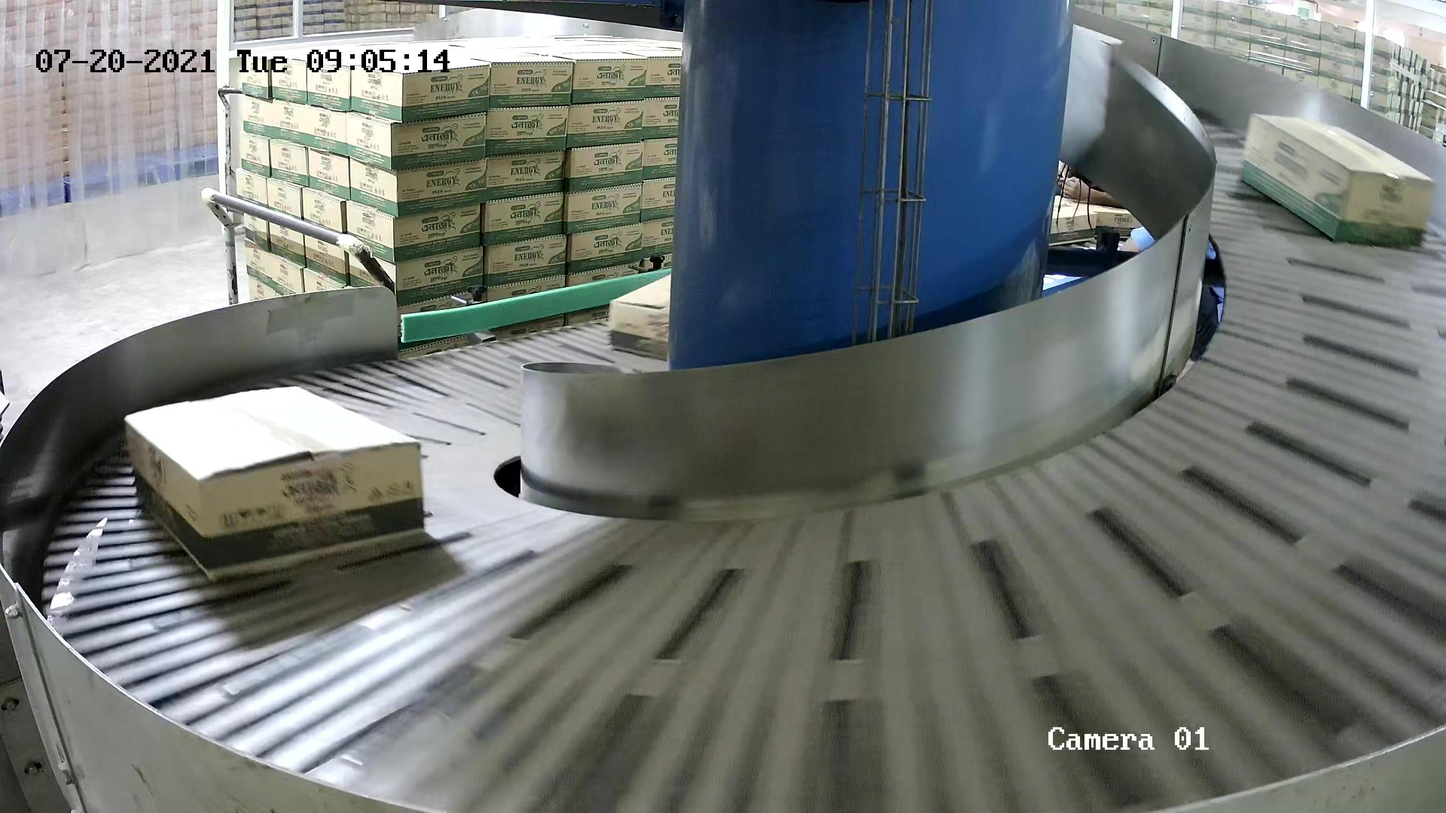Box: (123, 384, 427, 582), (1237, 111, 1435, 248), (606, 271, 672, 361)
